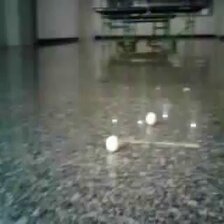w: (104, 134, 120, 152), (145, 112, 156, 125)
